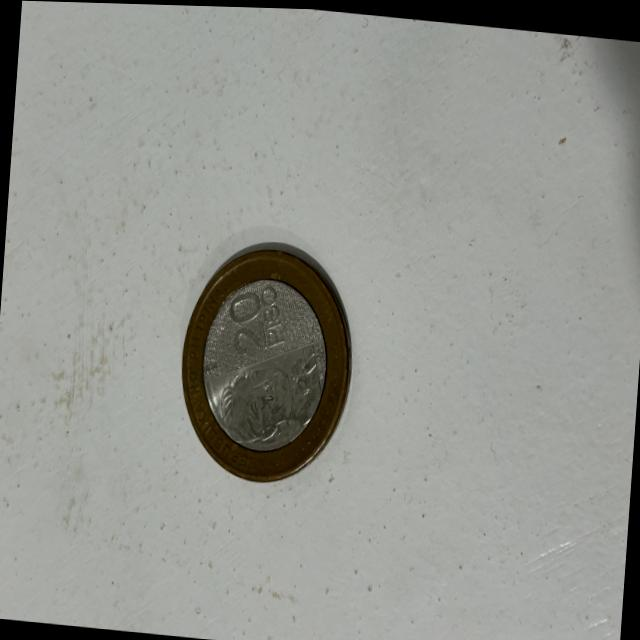20_New_Front: (225, 275, 295, 356)
